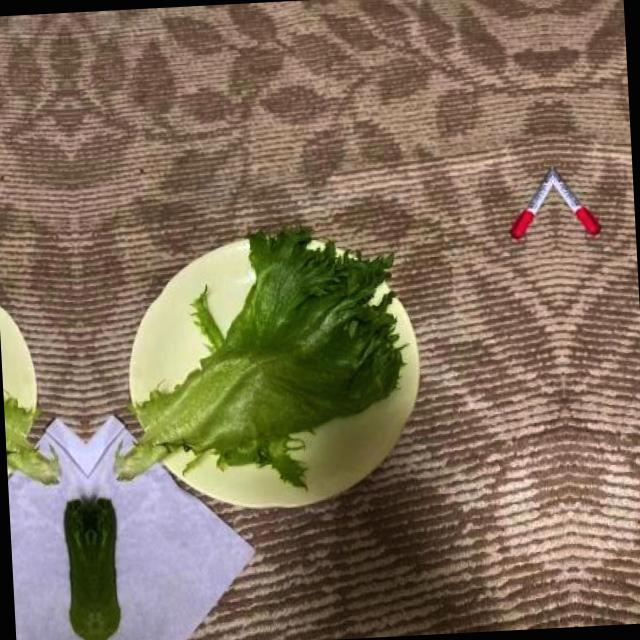healthy: (101, 206, 422, 484), (0, 224, 61, 489)
